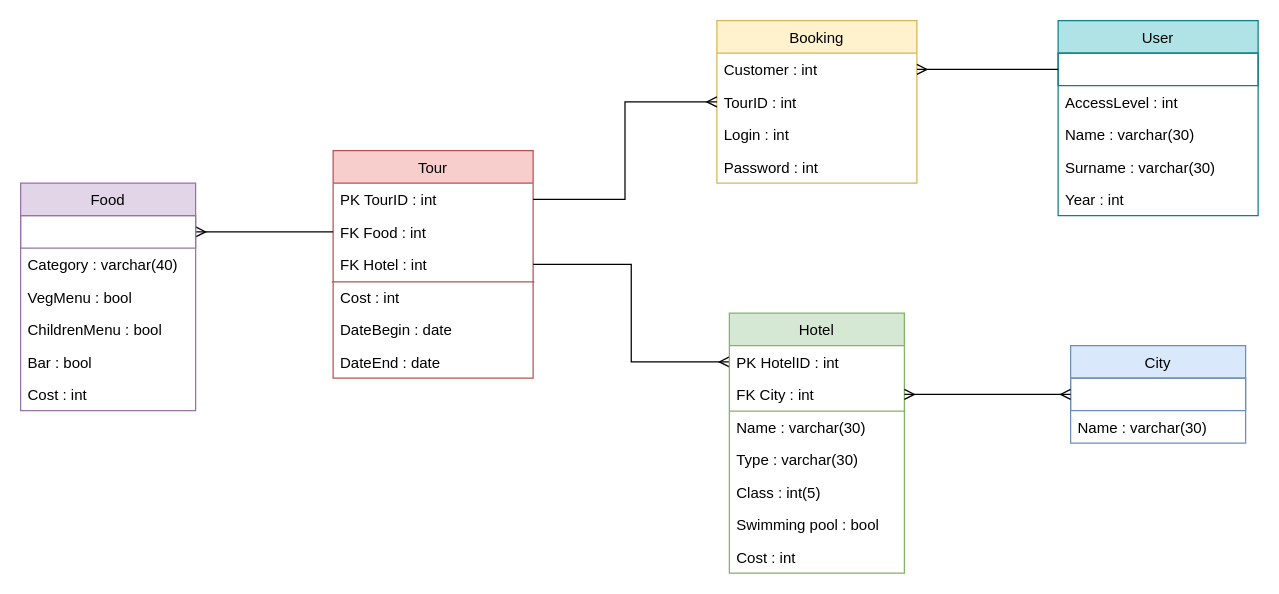
The diagram is 1279 pixels wide and 594 high, and some of its shapes have lost their labels. The centre of each missing label's shape, as x and y in pixels:
PK CityID : int: point (1157, 394)
PK FoodID : int: point (107, 231)
PK UserID : int: point (1157, 69)
